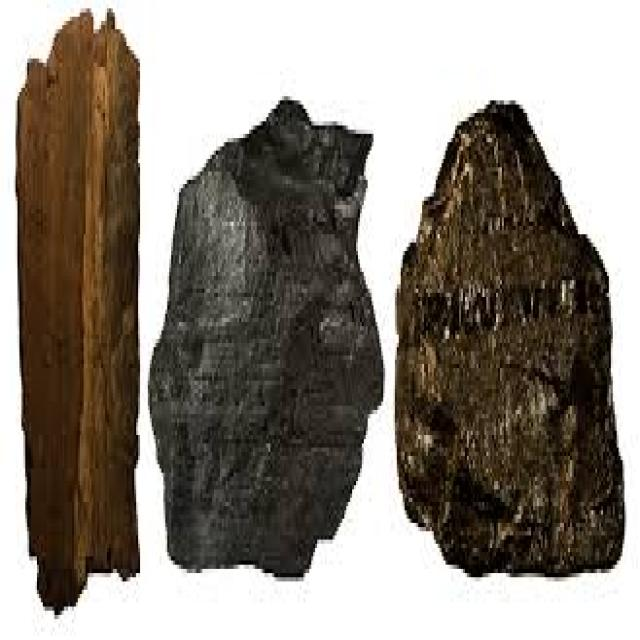Sedimentary: (148, 84, 389, 594), (395, 75, 628, 586), (6, 4, 156, 623)
